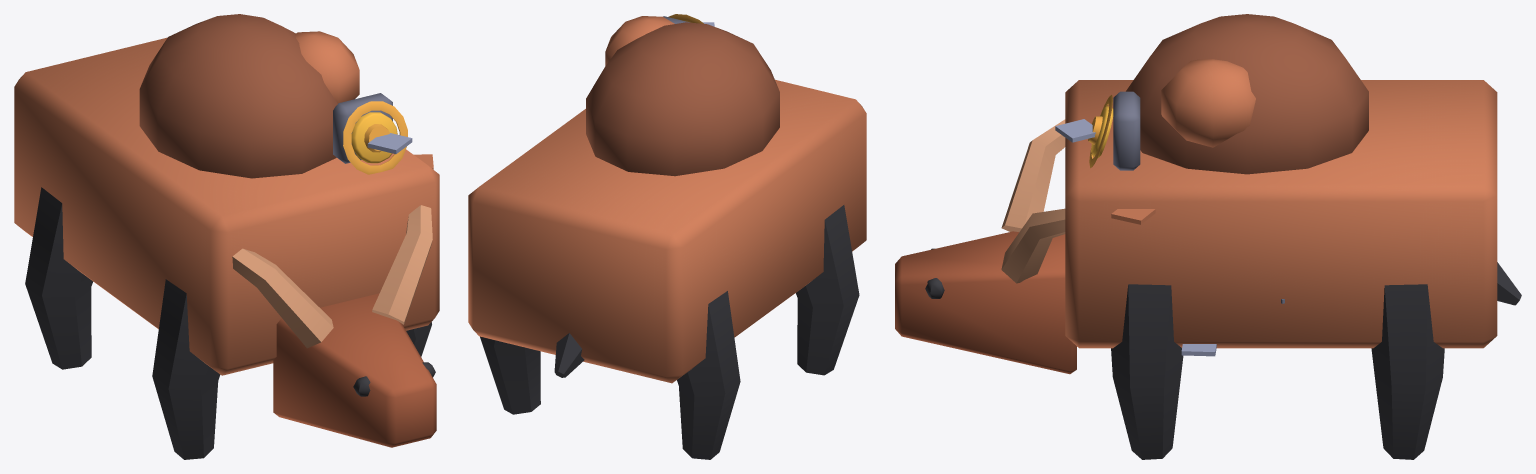
Rendered from boulder_ram.glb.
The picture shows the model from 3 angles, left to right: view 1: azimuth 30°, elevation 25°; view 2: azimuth 150°, elevation 25°; view 3: azimuth 270°, elevation 25°; orthographic projection. The views are drawn at different scales.
Parts seen in each view (by area): view 1: BoulderRam; view 2: BoulderRam; view 3: BoulderRam.
Part boxes in pixels (x1=…): BoulderRam: x1=14, y1=14, x2=439, y2=459; BoulderRam: x1=468, y1=14, x2=866, y2=459; BoulderRam: x1=895, y1=14, x2=1521, y2=459.
Bounding box in the file's own units: 2.29 × 3 × 4.49.
Materials: 1 (1 with a texture image).
